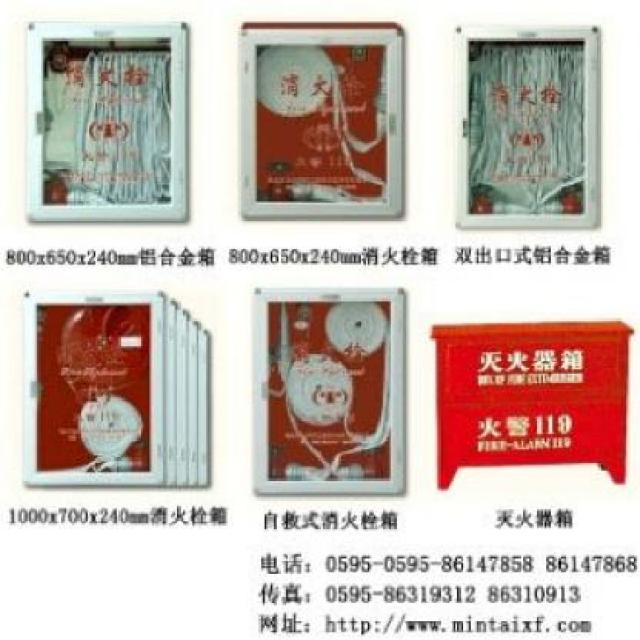firehydrant: (17, 283, 218, 493), (233, 15, 412, 227), (246, 278, 412, 504), (427, 316, 636, 494), (20, 14, 195, 226), (446, 21, 606, 237)
